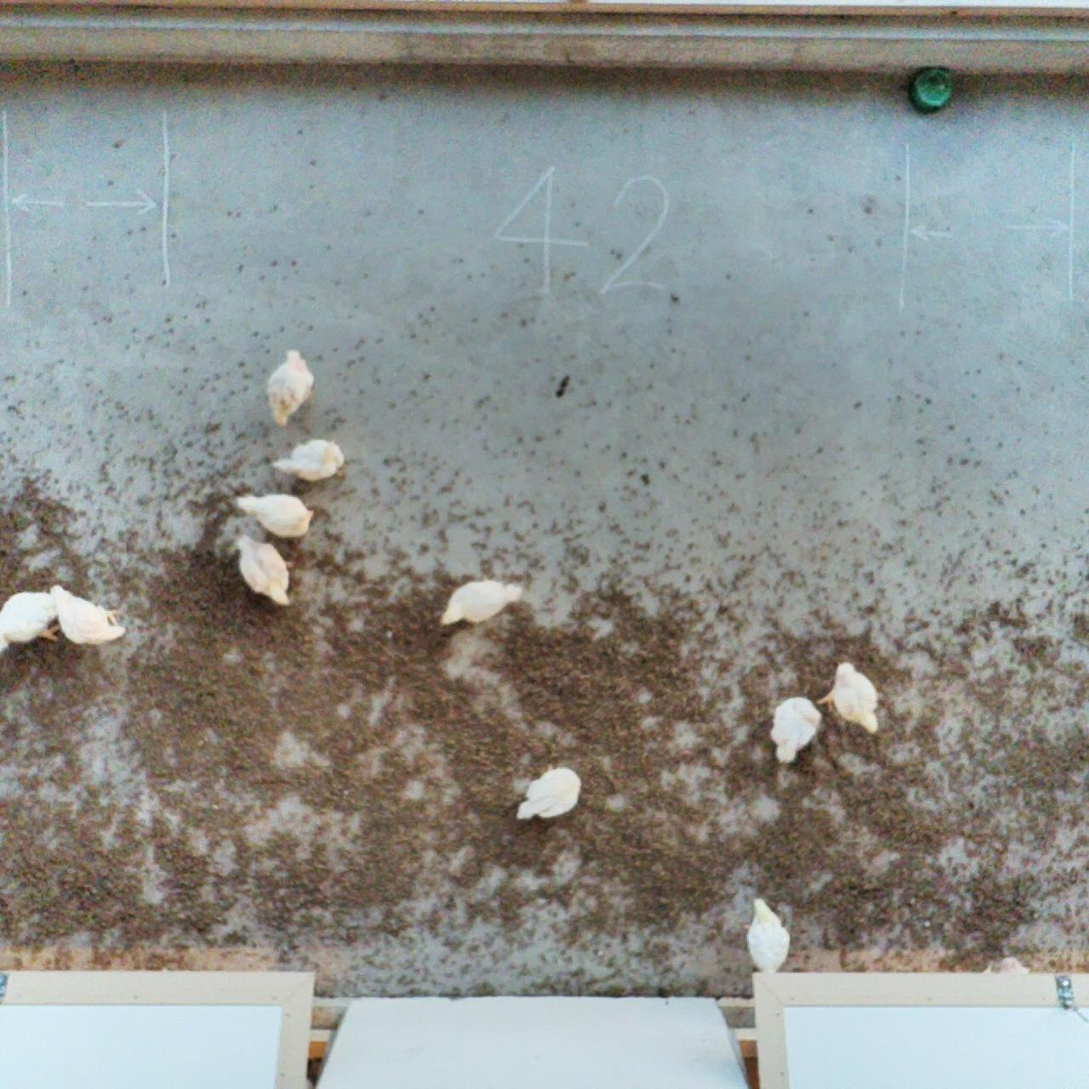chicken: (815, 659, 883, 738), (48, 582, 128, 647), (437, 574, 526, 629), (232, 533, 293, 609), (264, 346, 317, 429), (233, 490, 317, 540), (513, 766, 585, 823), (768, 695, 824, 767), (744, 894, 794, 974), (270, 435, 348, 485), (0, 589, 60, 654), (979, 953, 1031, 977)
